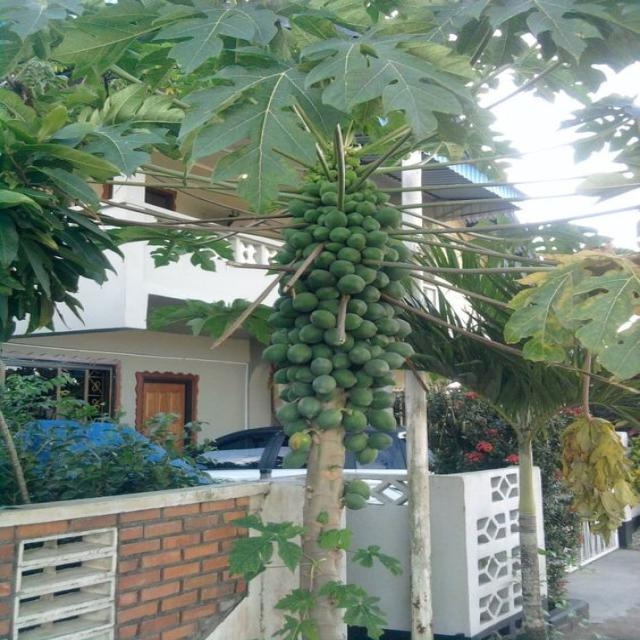Papaya-Tree: (9, 4, 640, 529)
